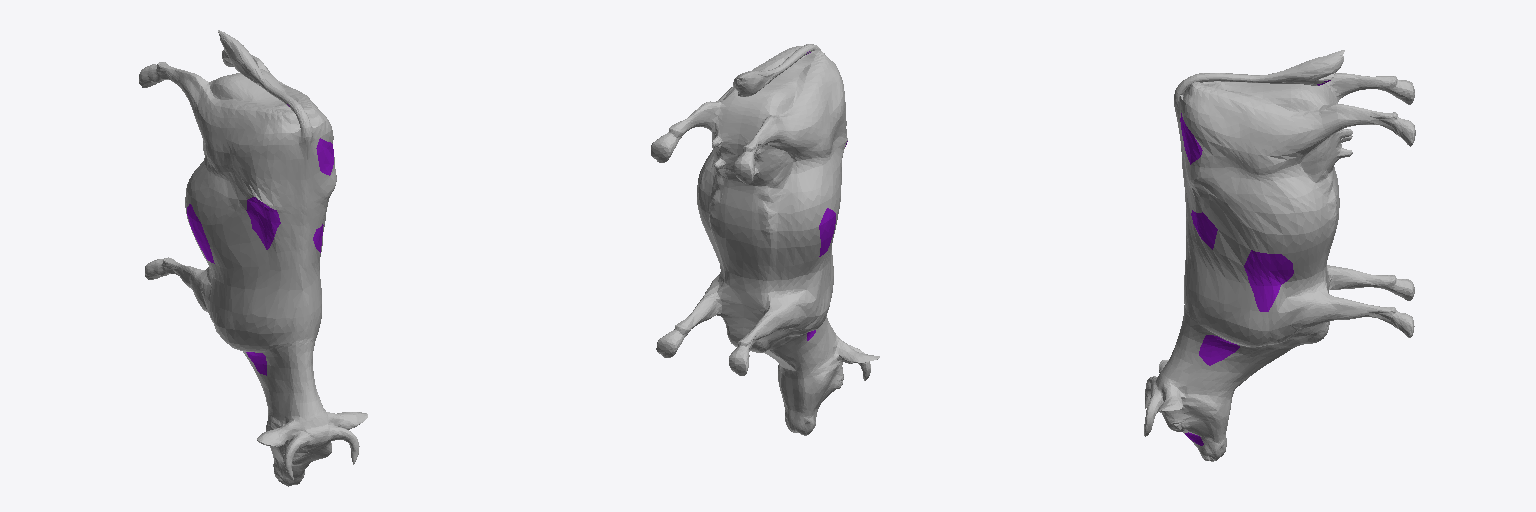
Rendered from cow.obj.
3 renders of one model, left to right at view 1: azimuth 30°, elevation 25°; view 2: azimuth 150°, elevation 25°; view 3: azimuth 270°, elevation 25°, orthographic.
Visible parts, largest first — view 1: default; view 2: default; view 3: default.
Part boxes in pixels (bbox=[...]): default: bbox=[139, 30, 367, 486]; default: bbox=[651, 44, 879, 435]; default: bbox=[1144, 50, 1415, 461].
Bounding box in the file's own units: 2.06 × 6.38 × 3.86.